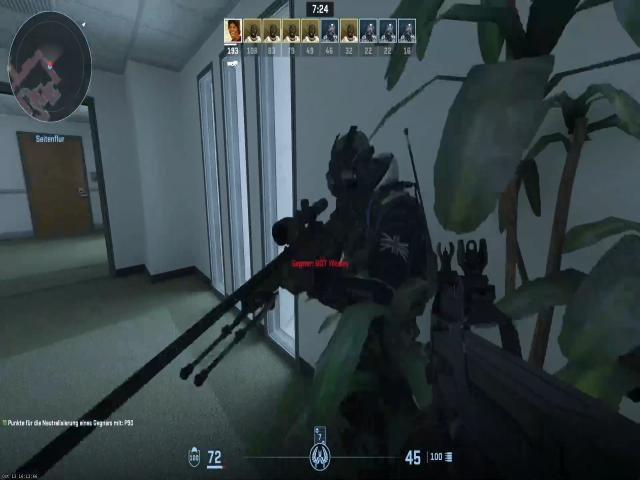CT: (306, 117, 438, 330)
CT-Head: (323, 127, 383, 213)
